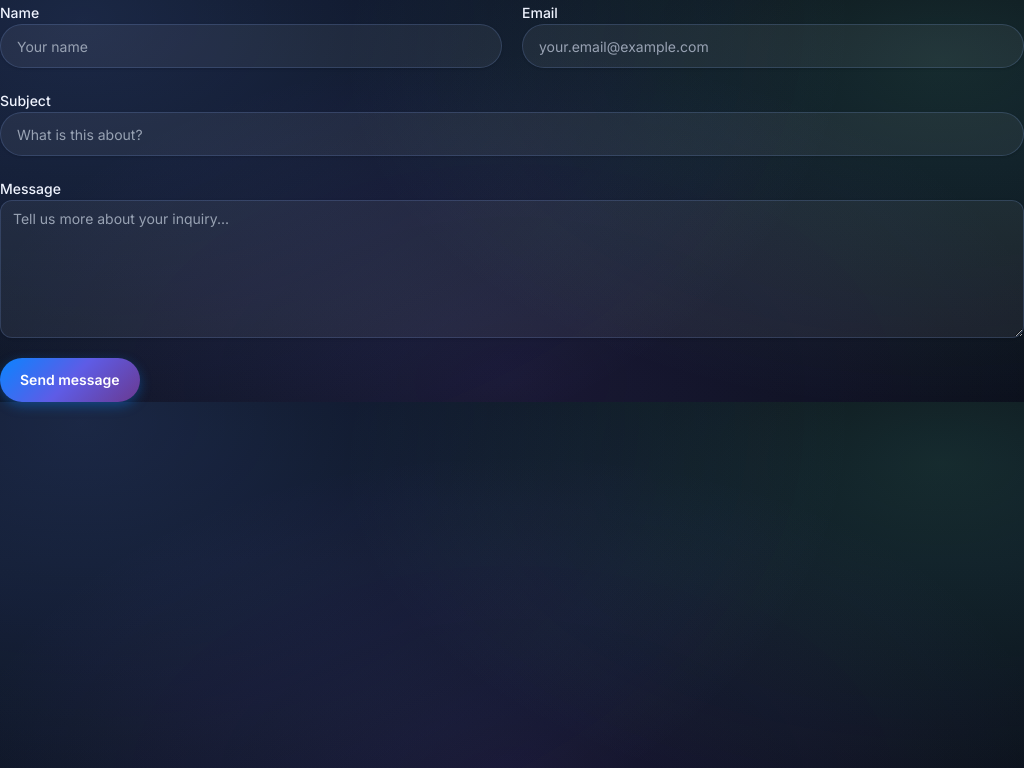
Test: ContactForm › shows inline error on unexpected exception
This screenshot has width=1024, height=768.
In the field with placeholder "Your name": (251, 46) top-left (0, 24), bottom-right (502, 68), type "Eve"
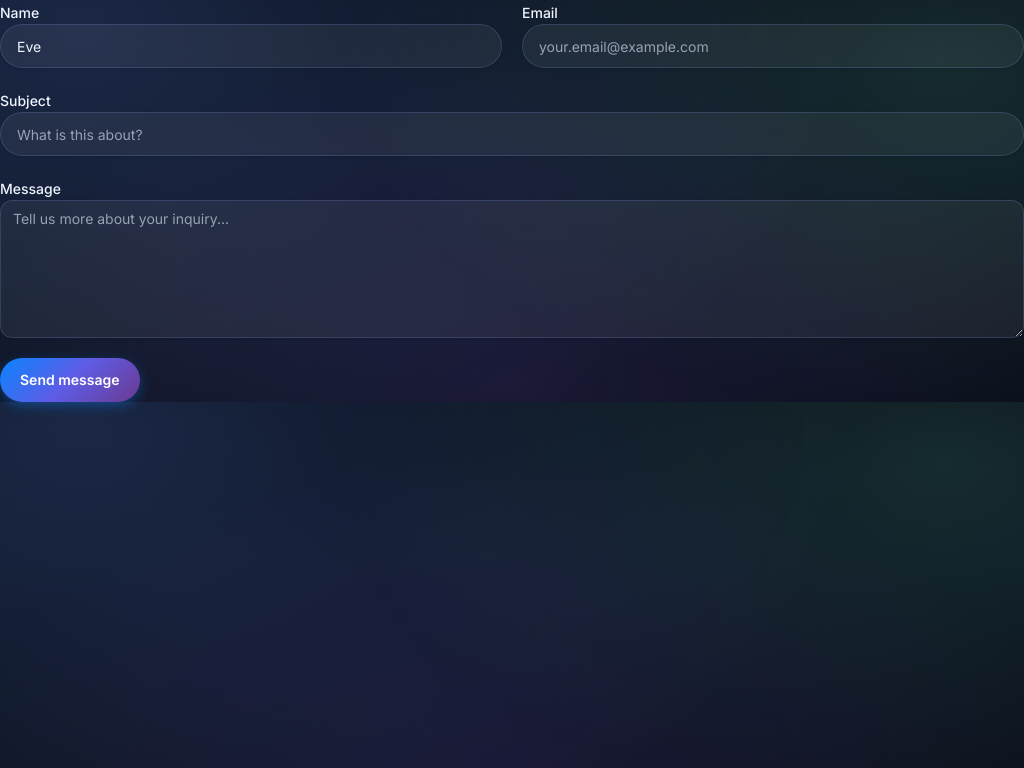
In the field with placeholder "your.email@example.com": (773, 46) top-left (522, 24), bottom-right (1023, 68), type "eve@example.com"
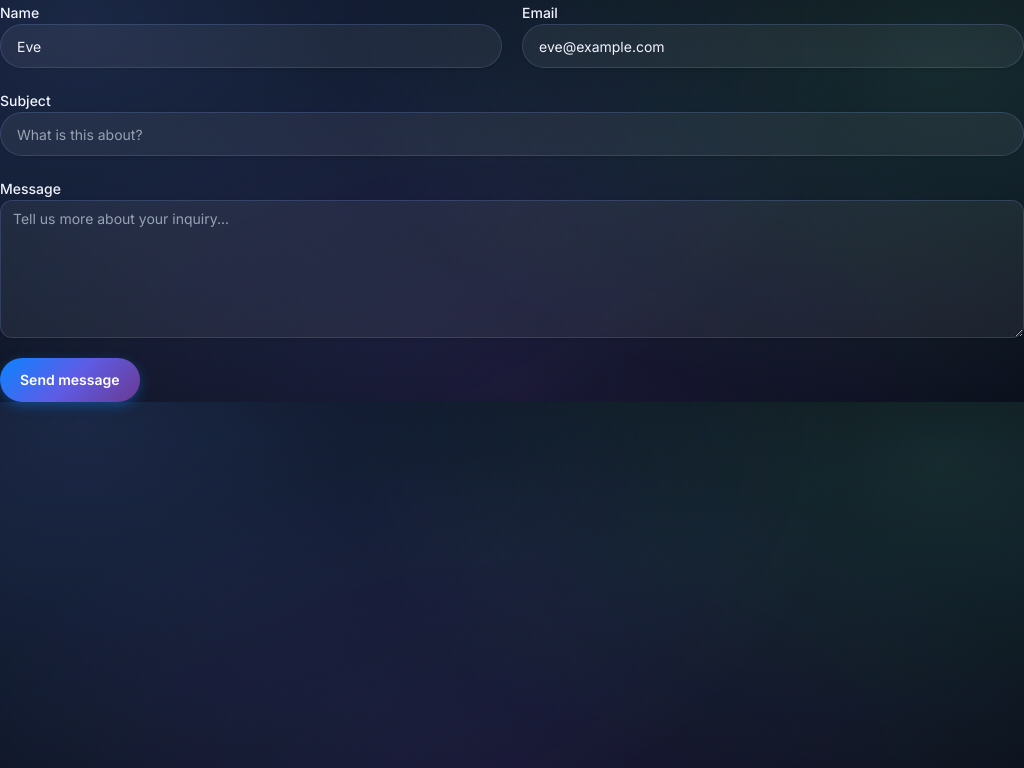
In the field with placeholder "What is this about?": (512, 134) top-left (0, 112), bottom-right (1023, 156), type "Unexpected"
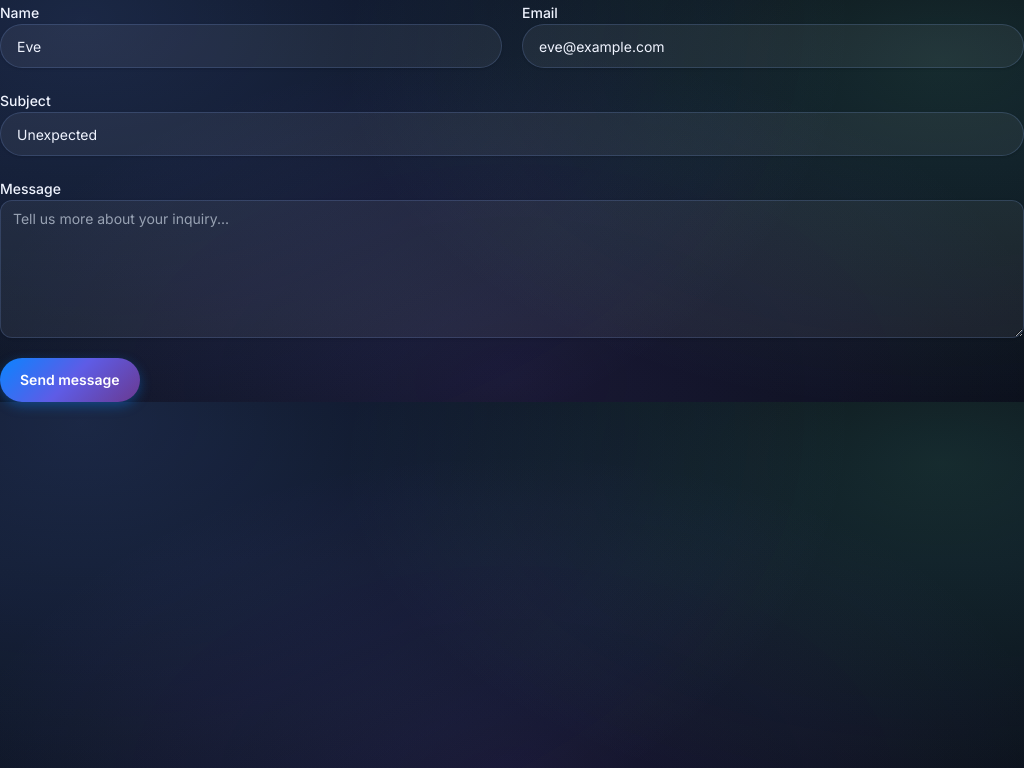
In the text box with placeholder "Tell us more about your inquiry...": (512, 269) top-left (0, 200), bottom-right (1023, 338), type "Testing string error"
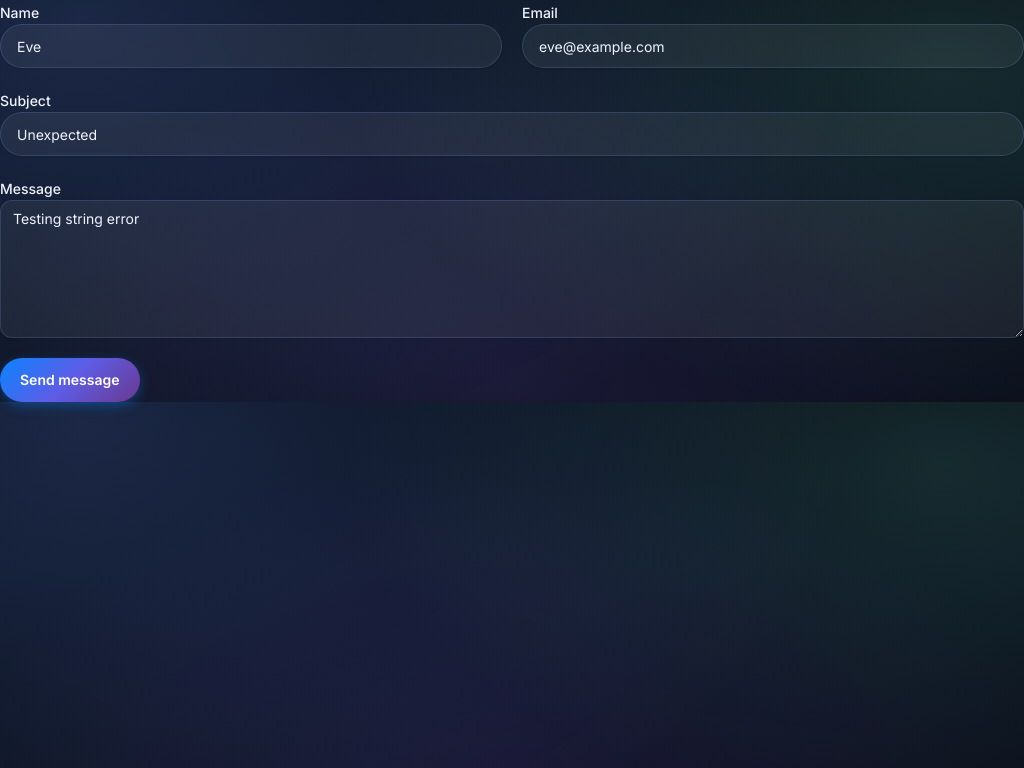
Click the button "Send message": (70, 380) top-left (0, 358), bottom-right (140, 402)
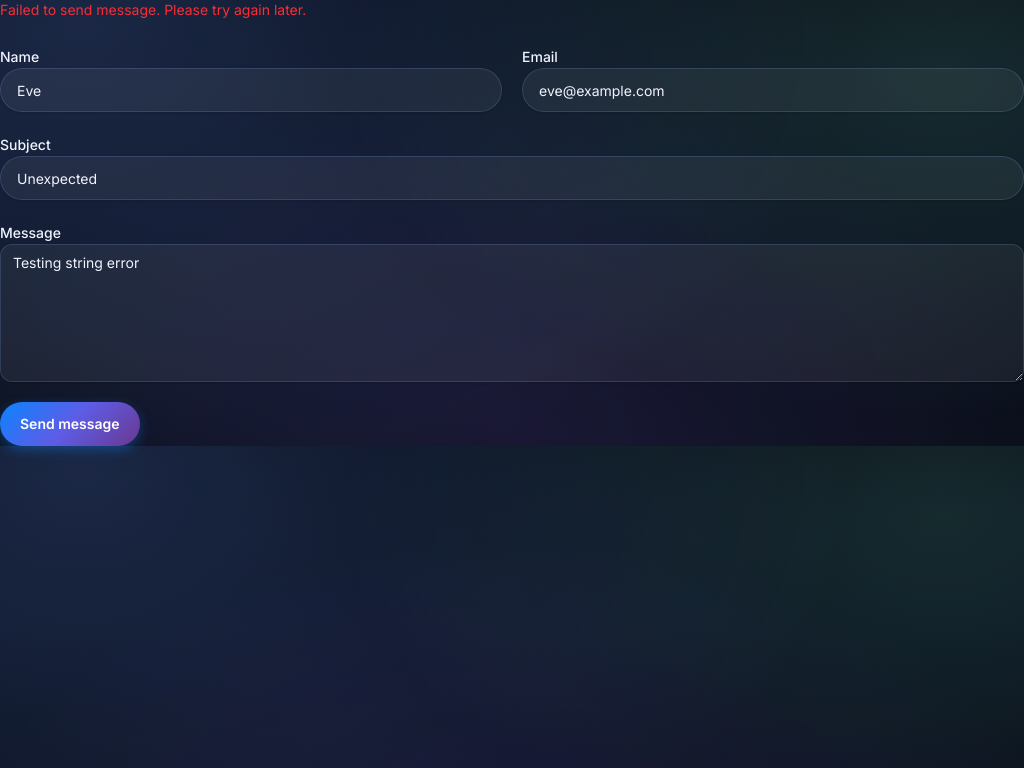
Expected: the text "Failed to send message. Please try again later." is shown, top-left (0, 1), bottom-right (306, 18)
